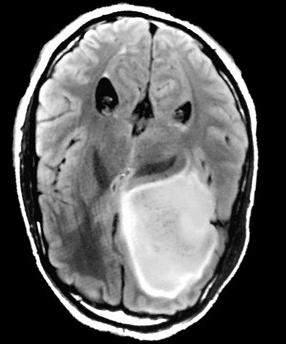Tumour-Meningioma: (116, 146, 232, 320)
